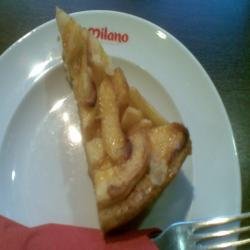apple_pie: (47, 6, 200, 234)
